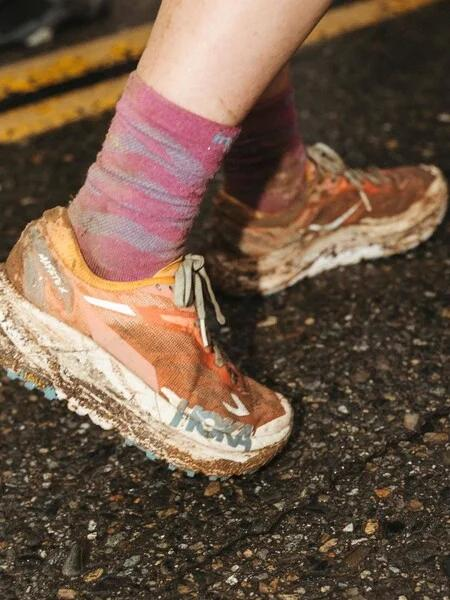hoka logo: (146, 379, 268, 462)
